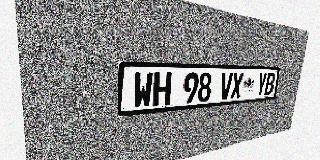8: (197, 73, 213, 102)
9: (182, 73, 199, 104)
B: (264, 73, 275, 96)
H: (152, 72, 172, 106)
V: (219, 73, 233, 100)
W: (132, 72, 153, 108)
X: (230, 73, 244, 99)
Y: (256, 73, 267, 96)
